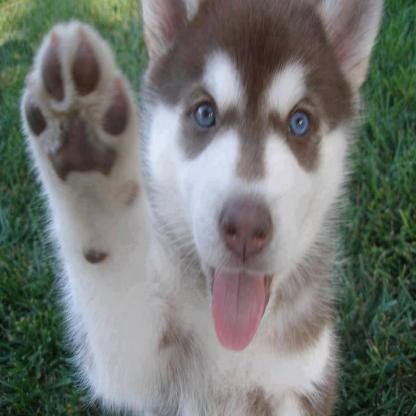dog: (23, 3, 394, 416)
